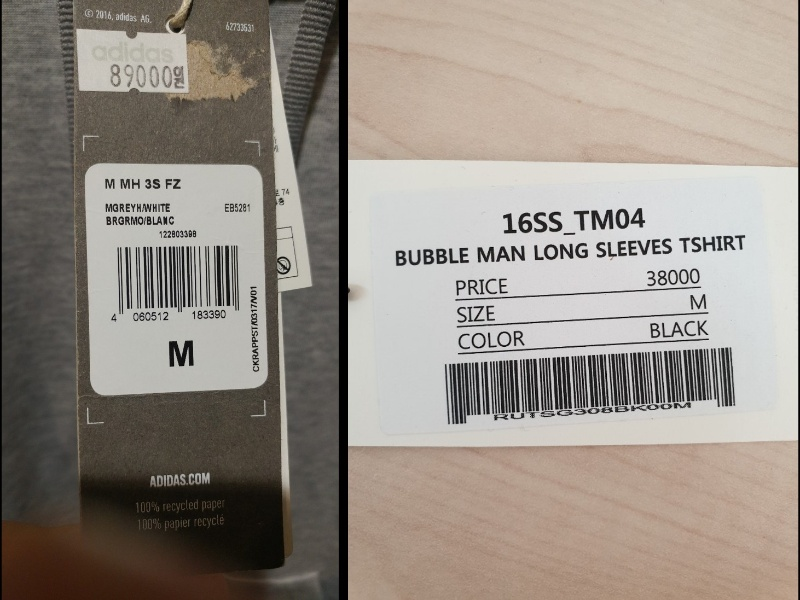tag: (349, 159, 797, 447), (71, 1, 288, 571)
text: (393, 233, 750, 267), (501, 205, 648, 235), (454, 326, 529, 354), (103, 175, 183, 194), (646, 320, 712, 342), (450, 276, 512, 298), (644, 268, 705, 287), (452, 303, 501, 326), (102, 212, 176, 227), (101, 201, 173, 214), (158, 227, 199, 242), (221, 199, 254, 217), (130, 310, 172, 324), (686, 290, 709, 314), (190, 308, 229, 322)
